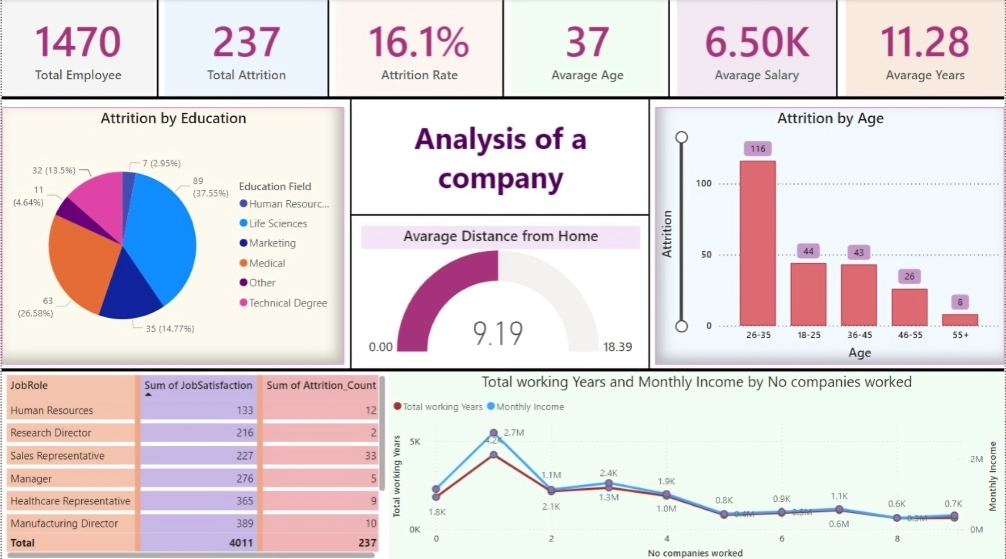

This screenshot's page, from the dashboard's own definition file:
{"tool":"powerbi","page":{"name":"Page 1","canvas":[1280,720],"ordinal":0},"visuals":[{"type":"card","fields":{"Values":["Count(HR_Analytics.EmpID)"]},"box":[0,0,195.4,123.1],"z":0},{"type":"card","fields":{"Values":["HR_Analytics.M_Attrition"]},"box":[208.7,0,208.7,123.1],"z":1000},{"type":"card","fields":{"Values":["HR_Analytics.M_Attrition_Rate"]},"box":[425.9,0,213.5,123.1],"z":2000},{"type":"card","fields":{"Values":["HR_Analytics.M_Avg_Age"]},"box":[649.1,0,196.6,123.1],"z":3000},{"type":"card","fields":{"Values":["HR_Analytics.M_Avg_Sal"]},"box":[861.4,0,203.9,123.1],"z":4000},{"type":"card","fields":{"Values":["HR_Analytics.M_Avg_Years"]},"box":[1076.1,0,203.9,123.1],"z":5000},{"type":"pieChart","fields":{"Y":["HR_Analytics.M_Attrition"],"Series":["HR_Analytics.EducationField"]},"box":[0,137.8,436.7,328.9],"z":6000},{"type":"clusteredColumnChart","fields":{"Category":["HR_Analytics.AgeGroup"],"Y":["Sum(HR_Analytics.Attrition_Count)"]},"box":[833.3,137.8,445.6,328.9],"z":7000},{"type":"tableEx","fields":{"Values":["HR_Analytics.JobRole","Sum(HR_Analytics.JobSatisfaction)","Sum(HR_Analytics.Attrition_Count)"]},"box":[0,475.6,494.4,244.4],"z":9000},{"type":"lineChart","fields":{"Category":["HR_Analytics.NumCompaniesWorked"],"Y":["Sum(HR_Analytics.TotalWorkingYears)"],"Y2":["Sum(HR_Analytics.MonthlyIncome)"]},"box":[494.6,475.3,785.4,244.9],"z":10000},{"type":"shape","box":[0,114.6,1278.8,22.9],"z":11000},{"type":"shape","box":[189.4,0,19.3,126.7],"z":12000},{"type":"shape","box":[375.2,1.2,83.2,126.7],"z":13000},{"type":"shape","box":[629.8,1.2,19.3,126.7],"z":14000},{"type":"shape","box":[842.1,1.2,19.3,126.7],"z":15000},{"type":"shape","box":[1021.9,1.2,86.9,126.7],"z":16000},{"type":"shape","box":[0,462.1,1278.8,22.9],"z":17000},{"type":"shape","box":[425.6,127.8,40,346.7],"z":18000},{"type":"shape","box":[805.6,127.8,40,346.7],"z":19000},{"type":"gauge","fields":{"Y":["HR_Analytics.M_Avg_Distance"]},"box":[458.4,289.5,355.9,172.5],"z":19001},{"type":"textbox","box":[458.4,147.2,355.9,127.9],"z":19004},{"type":"shape","box":[445.2,231.6,380,88.1],"z":19005}]}

Visuals, with their boxes in screenshot pixels (x1, y1, x2, y2), scaled from the page's 1280x720 canvas onto the 1006x559 screenshot:
card - Count(HR_Analytics.EmpID): <bbox>0, 0, 154, 96</bbox>
card - HR_Analytics.M_Attrition: <bbox>164, 0, 328, 96</bbox>
card - HR_Analytics.M_Attrition_Rate: <bbox>335, 0, 503, 96</bbox>
card - HR_Analytics.M_Avg_Age: <bbox>510, 0, 665, 96</bbox>
card - HR_Analytics.M_Avg_Sal: <bbox>677, 0, 837, 96</bbox>
card - HR_Analytics.M_Avg_Years: <bbox>846, 0, 1005, 96</bbox>
pieChart - HR_Analytics.M_Attrition x HR_Analytics.EducationField: <bbox>0, 107, 343, 362</bbox>
clusteredColumnChart - HR_Analytics.AgeGroup x Sum(HR_Analytics.Attrition_Count): <bbox>655, 107, 1005, 362</bbox>
tableEx - HR_Analytics.JobRole x Sum(HR_Analytics.JobSatisfaction): <bbox>0, 369, 389, 558</bbox>
lineChart - HR_Analytics.NumCompaniesWorked x Sum(HR_Analytics.TotalWorkingYears): <bbox>389, 369, 1005, 558</bbox>
shape: <bbox>0, 89, 1005, 107</bbox>
shape: <bbox>149, 0, 164, 98</bbox>
shape: <bbox>295, 1, 360, 99</bbox>
shape: <bbox>495, 1, 510, 99</bbox>
shape: <bbox>662, 1, 677, 99</bbox>
shape: <bbox>803, 1, 871, 99</bbox>
shape: <bbox>0, 359, 1005, 377</bbox>
shape: <bbox>334, 99, 366, 368</bbox>
shape: <bbox>633, 99, 665, 368</bbox>
gauge - HR_Analytics.M_Avg_Distance: <bbox>360, 225, 640, 359</bbox>
textbox: <bbox>360, 114, 640, 214</bbox>
shape: <bbox>350, 180, 649, 248</bbox>
